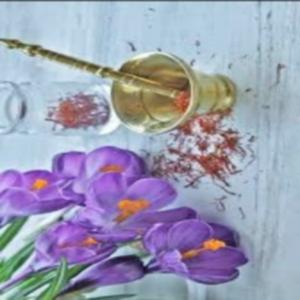Saffron: (80, 175, 201, 241), (0, 211, 89, 290), (144, 220, 244, 280), (48, 254, 142, 298), (0, 162, 72, 218)
